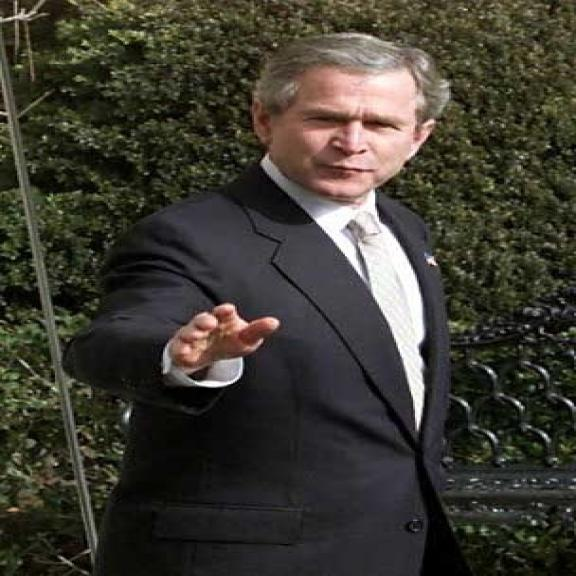face: (246, 30, 443, 200)
